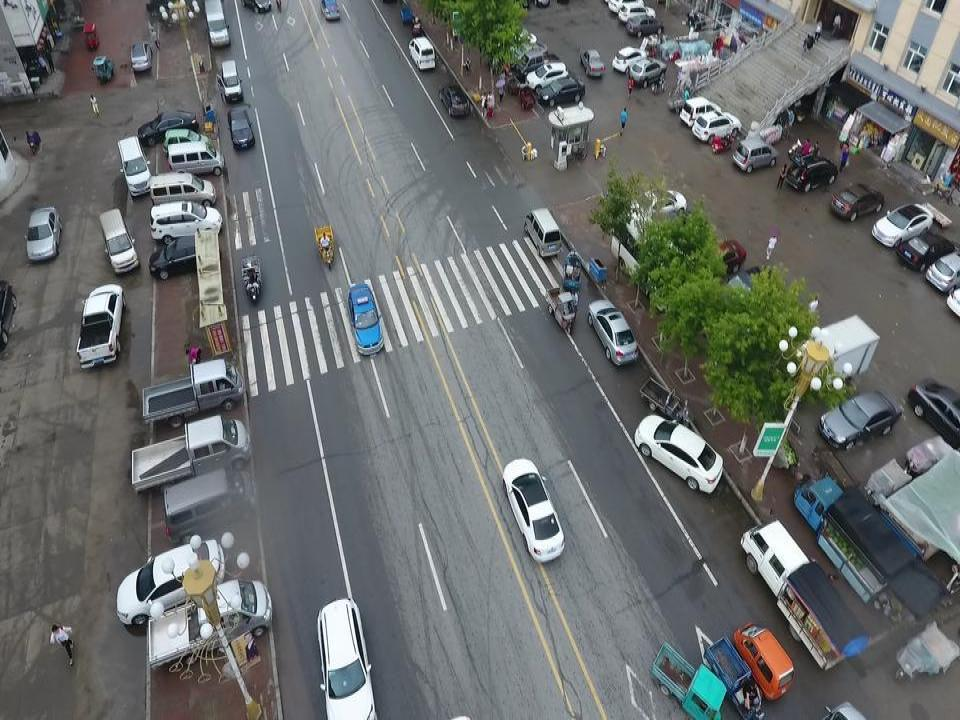car: (115, 536, 226, 631), (315, 593, 380, 720), (633, 413, 725, 496), (500, 456, 567, 565), (817, 387, 903, 450), (907, 376, 960, 457), (585, 297, 640, 367), (147, 232, 223, 280), (148, 198, 223, 246), (717, 264, 780, 320), (869, 202, 935, 250), (347, 283, 385, 356), (783, 150, 840, 194), (895, 231, 956, 272), (136, 108, 200, 147), (626, 188, 688, 228), (690, 237, 747, 279), (828, 181, 885, 223), (23, 205, 63, 264), (921, 248, 960, 297), (690, 110, 742, 146), (163, 128, 212, 160), (537, 76, 586, 107), (525, 62, 569, 94), (226, 105, 256, 151), (628, 55, 668, 89), (507, 41, 549, 68), (438, 83, 471, 116), (612, 44, 647, 75), (617, 0, 657, 25), (625, 14, 665, 38), (579, 47, 606, 80), (128, 40, 153, 73), (607, 0, 645, 16), (319, 0, 341, 23), (240, 0, 273, 13)
truck: (739, 516, 873, 671), (792, 470, 899, 606), (145, 577, 274, 672), (131, 412, 251, 496), (141, 357, 244, 431), (650, 640, 729, 720), (75, 283, 127, 372), (516, 48, 561, 84)
van: (162, 466, 259, 546), (98, 208, 140, 277), (149, 172, 217, 212), (116, 135, 155, 197), (167, 140, 226, 179), (523, 205, 562, 259), (731, 138, 779, 174), (678, 96, 723, 129), (203, 0, 231, 48), (215, 58, 245, 102), (408, 36, 436, 69)
